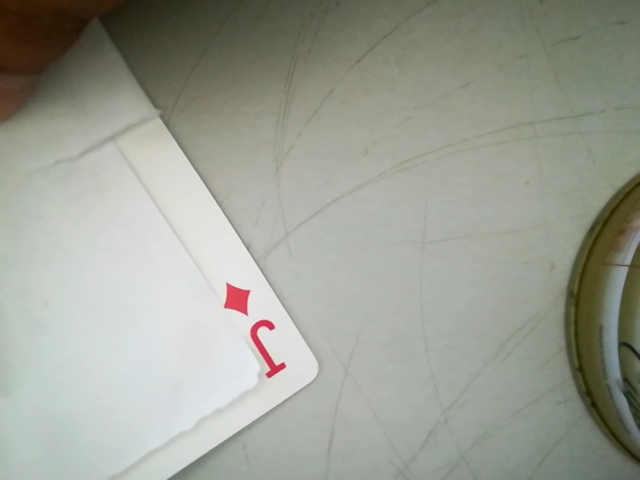fk j: (217, 272, 290, 386)
